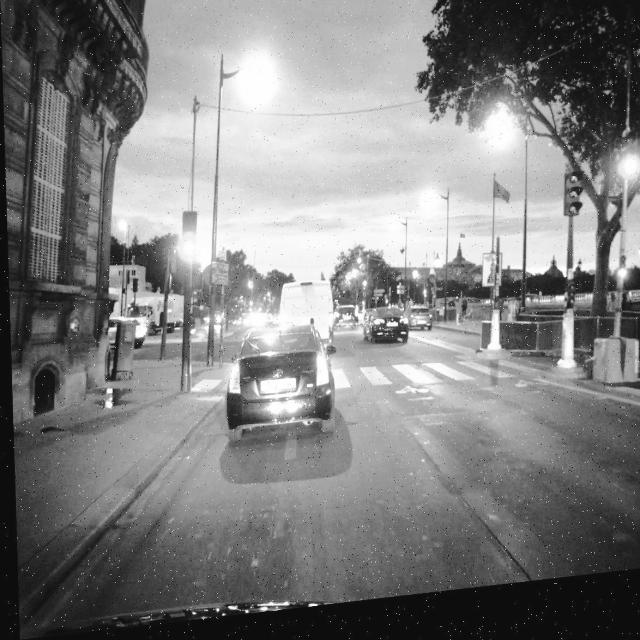Car: (224, 320, 337, 444)
Truck: (124, 296, 184, 342)
